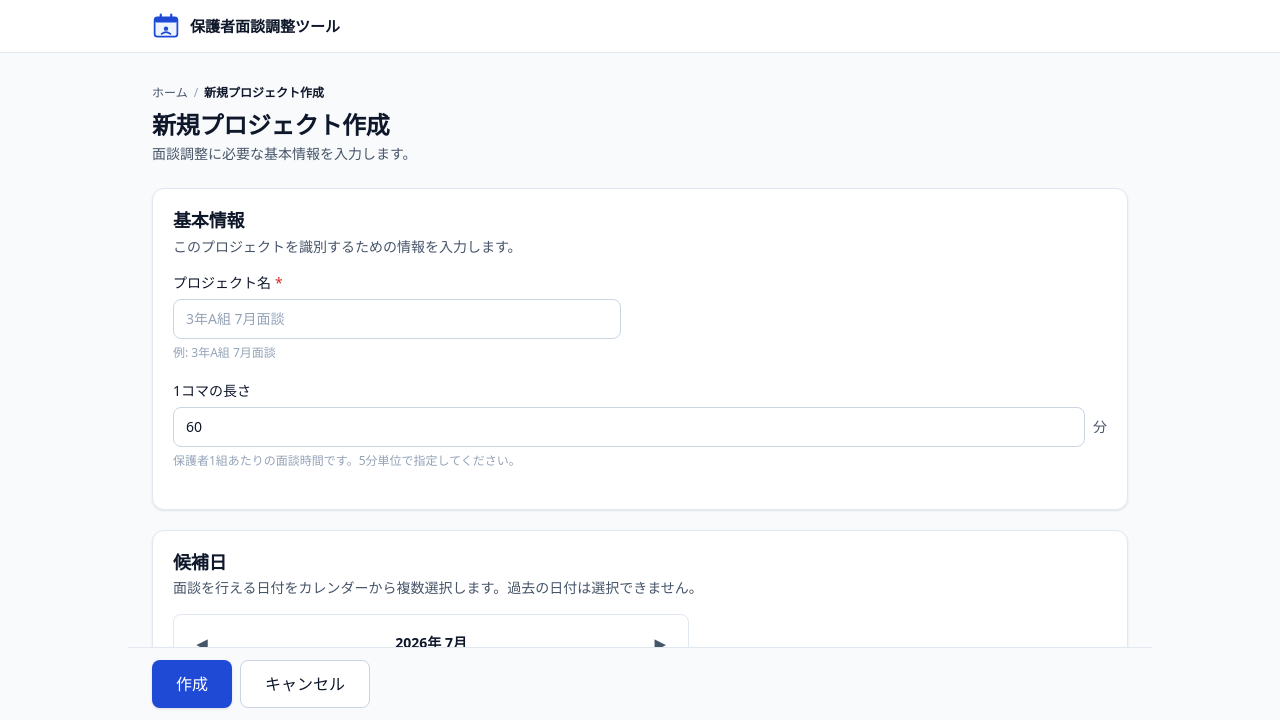
Test: ProjectNewPage › 候補日が未選択でサブミットするとカレンダー指示のエラーを表示する
The width and height of the screenshot is (1280, 720).
# プロジェクト名は入力するが、候補日は未選択
In the field labelled "プロジェクト名*": (397, 319) [173,299,621,339], type "テスト"
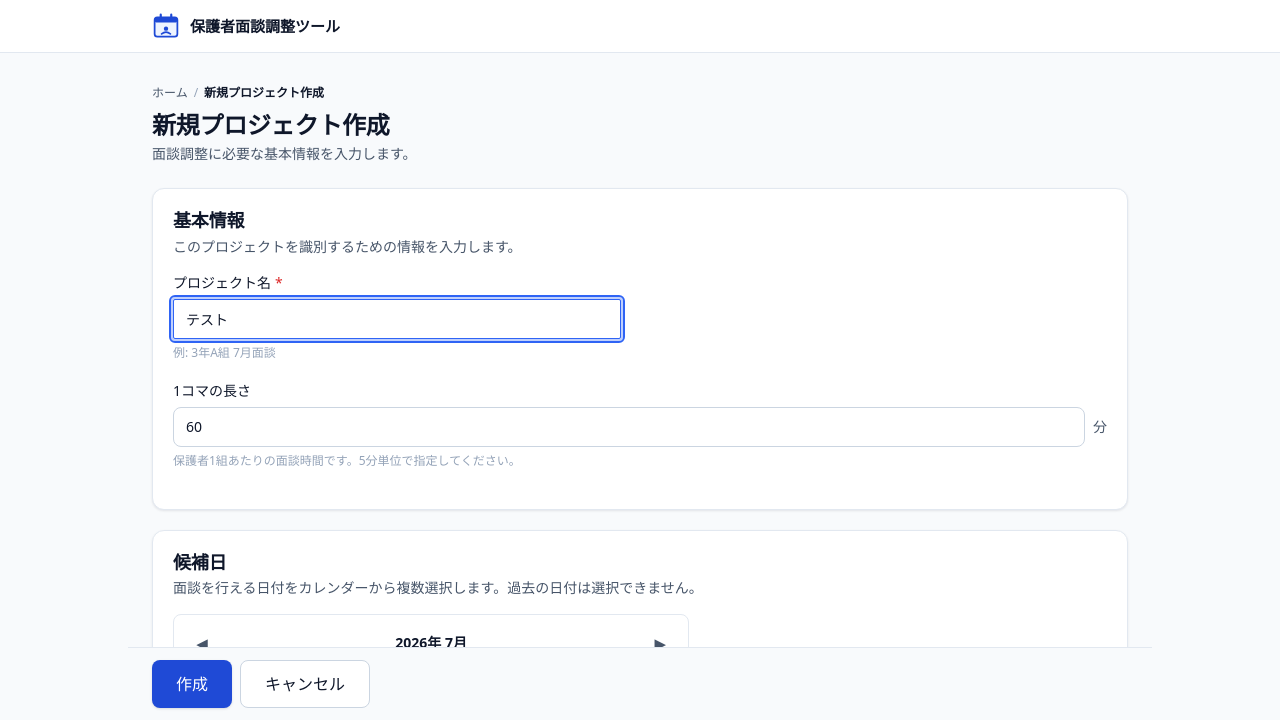
Click the button "作成": (192, 684) [152,660,232,708]
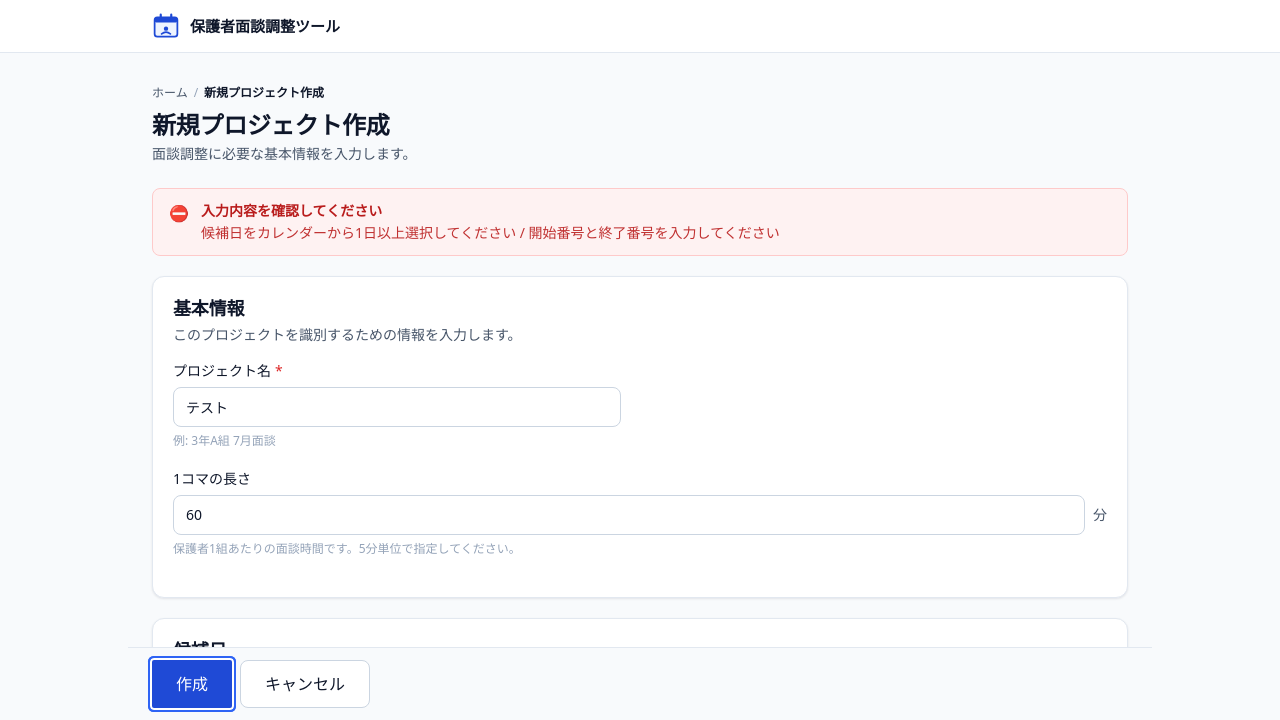
Now the message reads "⛔ 入力内容を確認してください 候補日をカレンダーから1日以上選択してください / 開始番号と終了番号を入力してください", box [201,223,780,242]
